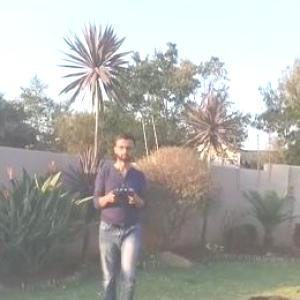follow: (90, 129, 148, 299)
null: (221, 281, 299, 299)
